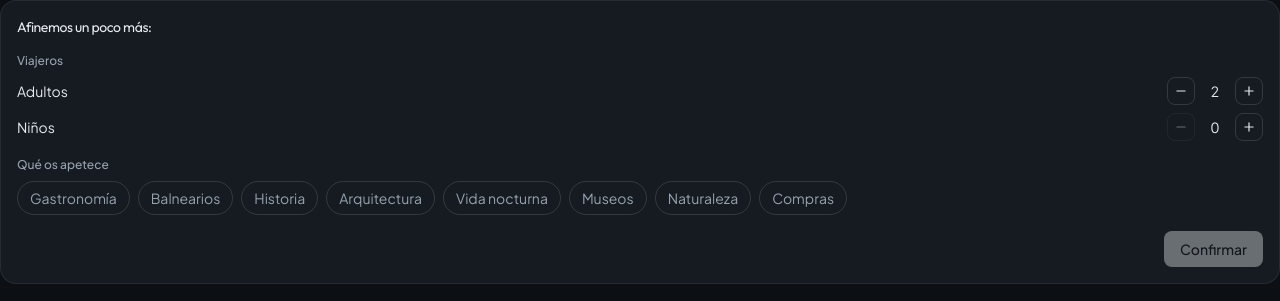
Test: QuickReplies › follows the travellers on screen: down to one, it asks with «te»
Check: the text "Qué os apetece" is shown, box [17,157,109,172]
Click the button named "Quitar uno" in the row of "Adultos": (1181, 91) [1167,77,1195,105]
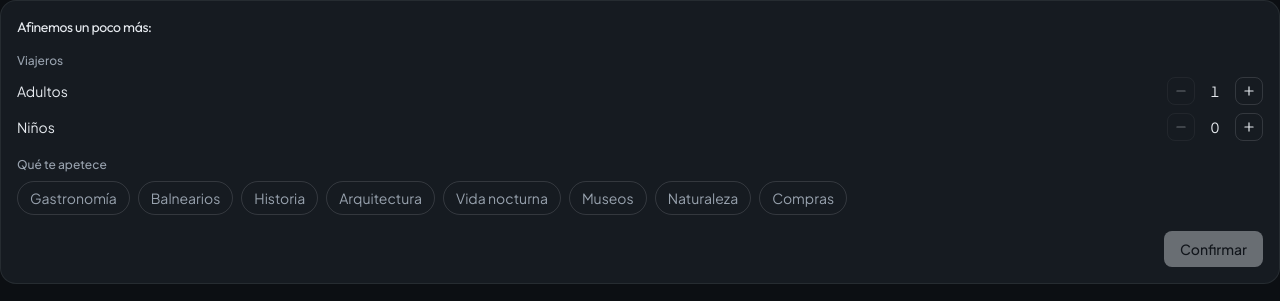
Check: the text "Qué te apetece" is shown, box [17,157,107,172]
